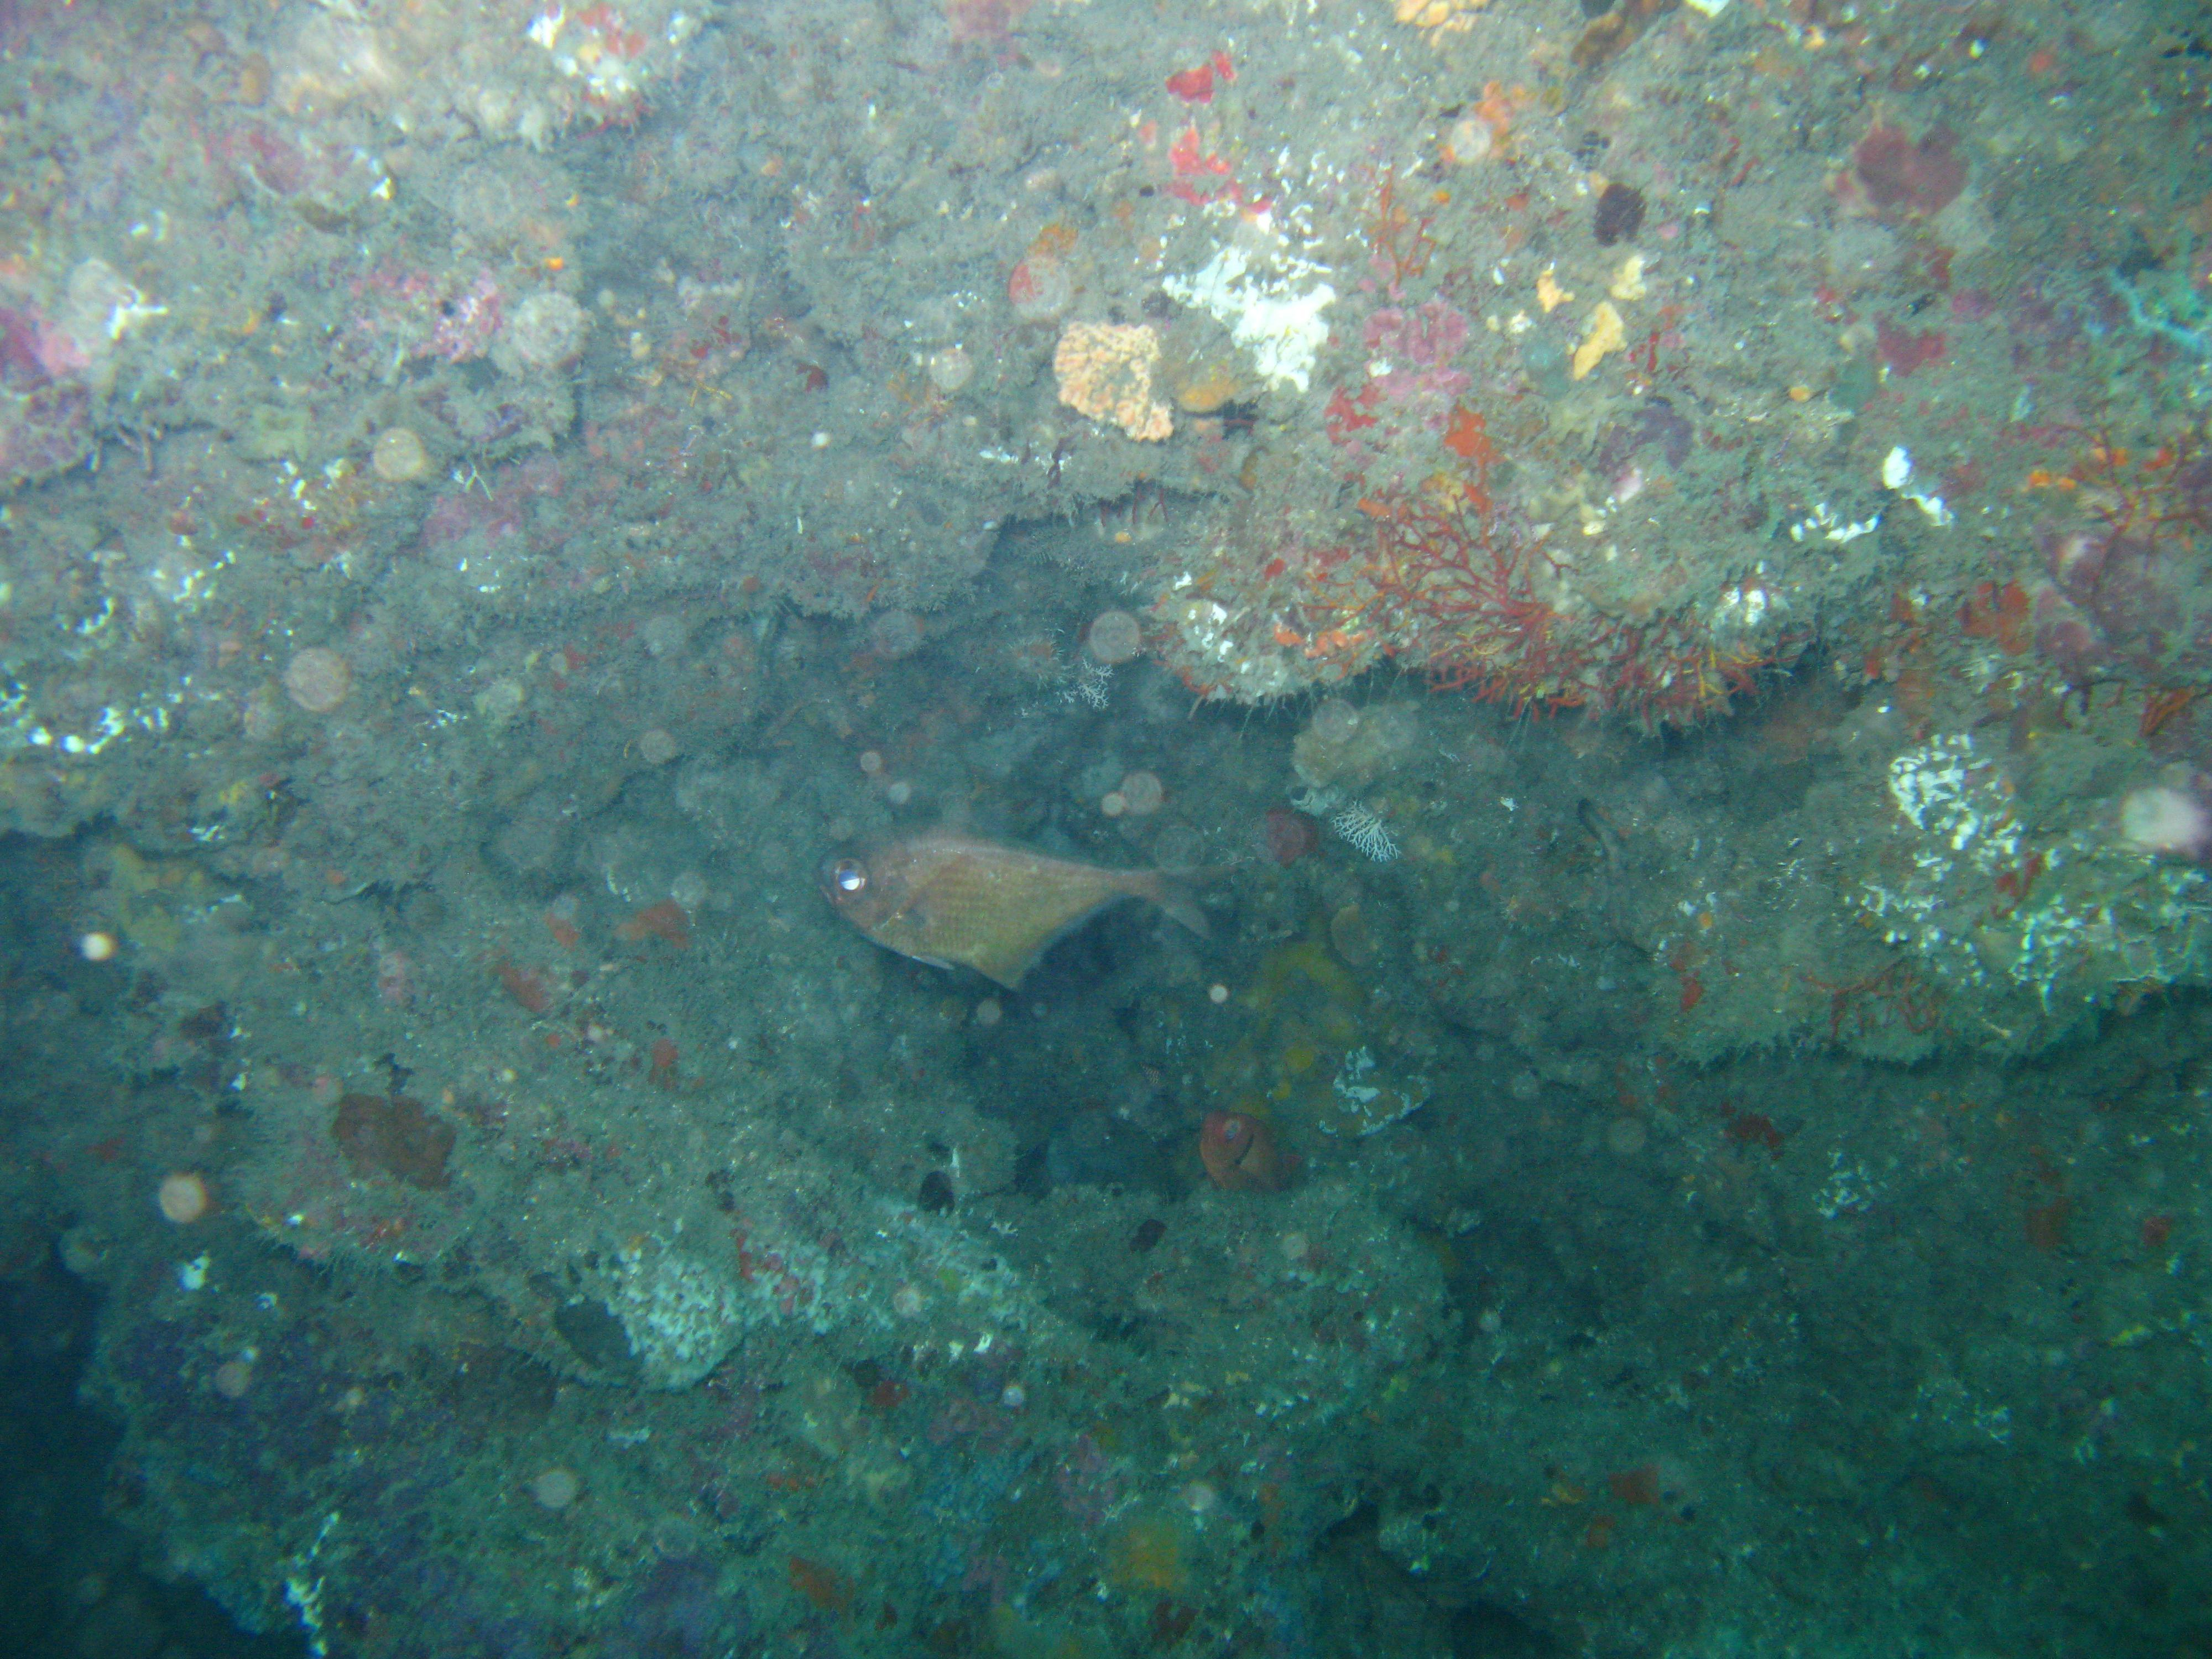Fish: (653, 685, 1230, 1131)
